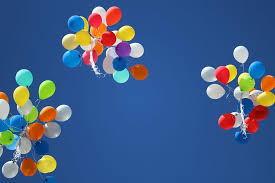Balloon: (62, 50, 82, 68), (37, 155, 56, 173), (38, 80, 55, 99), (15, 69, 33, 86), (55, 104, 72, 122), (13, 86, 29, 105), (105, 6, 121, 25), (116, 25, 135, 41), (130, 64, 149, 80), (27, 123, 44, 140), (21, 158, 37, 176), (42, 122, 61, 137), (39, 106, 56, 122), (2, 161, 18, 178), (10, 115, 26, 132), (16, 137, 31, 154), (67, 15, 84, 30), (62, 33, 77, 48), (113, 56, 128, 71), (83, 50, 97, 66), (76, 31, 91, 45), (115, 43, 131, 56), (88, 13, 102, 27), (1, 99, 10, 120)
